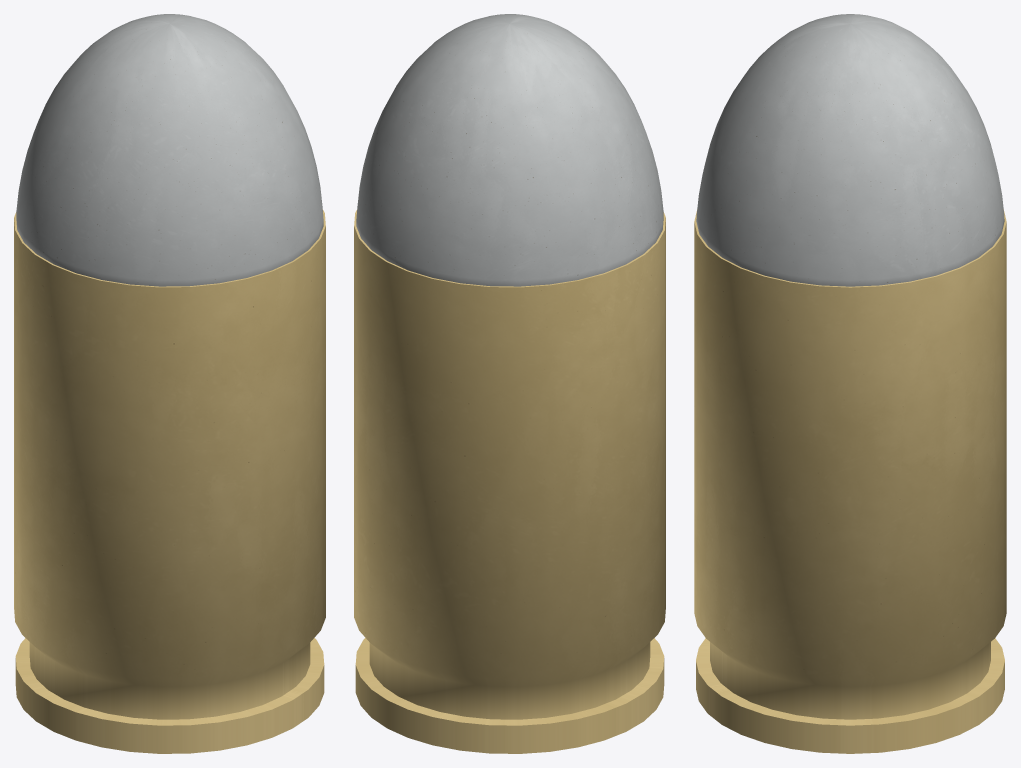
The model's file is bullet.fbx.
The picture shows the model from 3 angles, left to right: view 1: azimuth 30°, elevation 25°; view 2: azimuth 150°, elevation 25°; view 3: azimuth 270°, elevation 25°; orthographic projection.
Parts seen in each view (by area): view 1: Cylinder, Sphere.001; view 2: Cylinder, Sphere.001; view 3: Cylinder, Sphere.001.
Boxes of the visible parts, x1,y1,x2,y2 form: Cylinder: (14, 209, 325, 753); Sphere.001: (16, 14, 323, 286); Cylinder: (354, 209, 665, 753); Sphere.001: (356, 14, 663, 286); Cylinder: (694, 209, 1006, 753); Sphere.001: (696, 14, 1004, 286).
Bounding box in the file's own units: 200 × 470 × 200.
2 materials, 2 textured.
